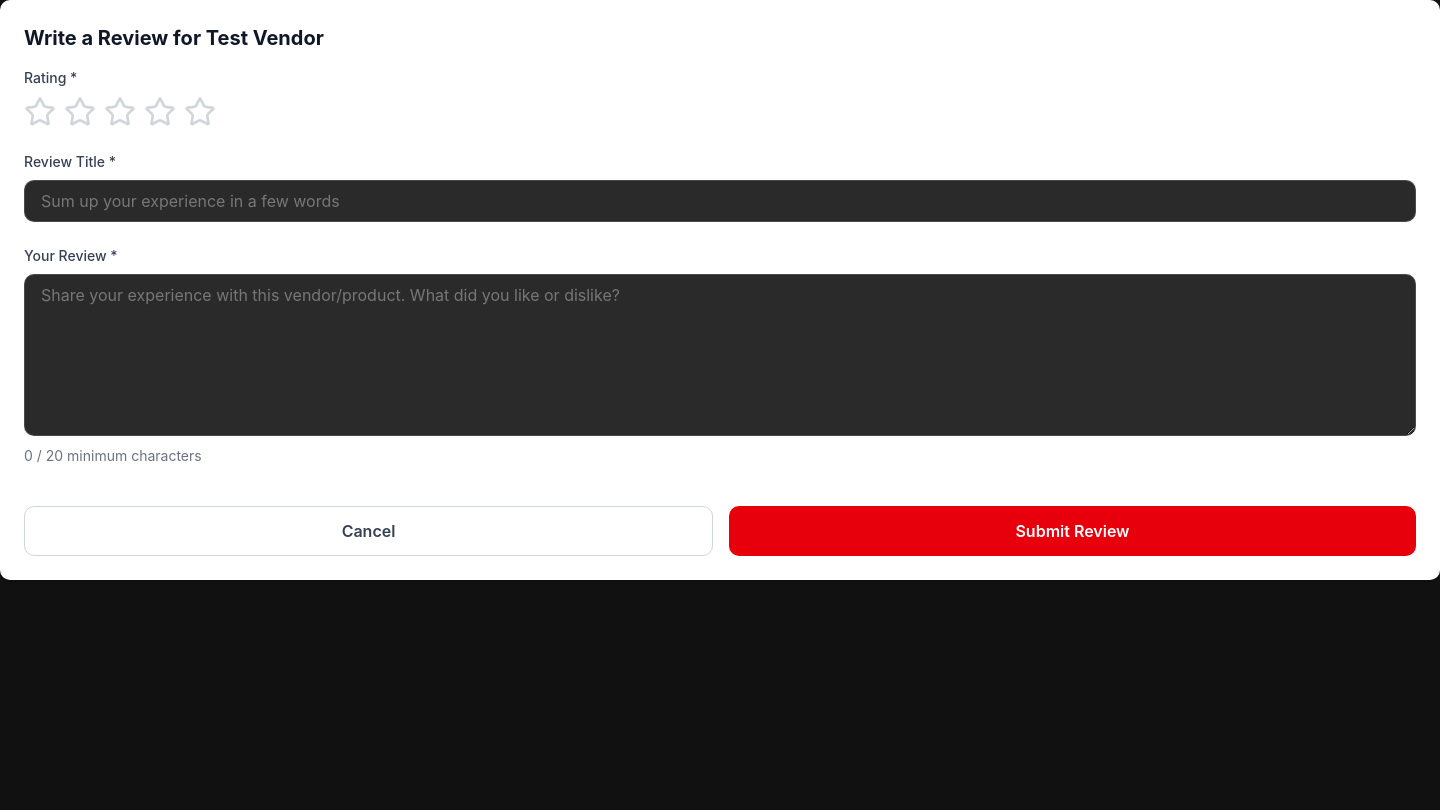
Scenario: ReviewForm › should show validation error for short comment
The width and height of the screenshot is (1440, 810).
Replace the text in the text box labelled "Your Review *" with "Short" at (720, 355), box [24,274,1416,436]
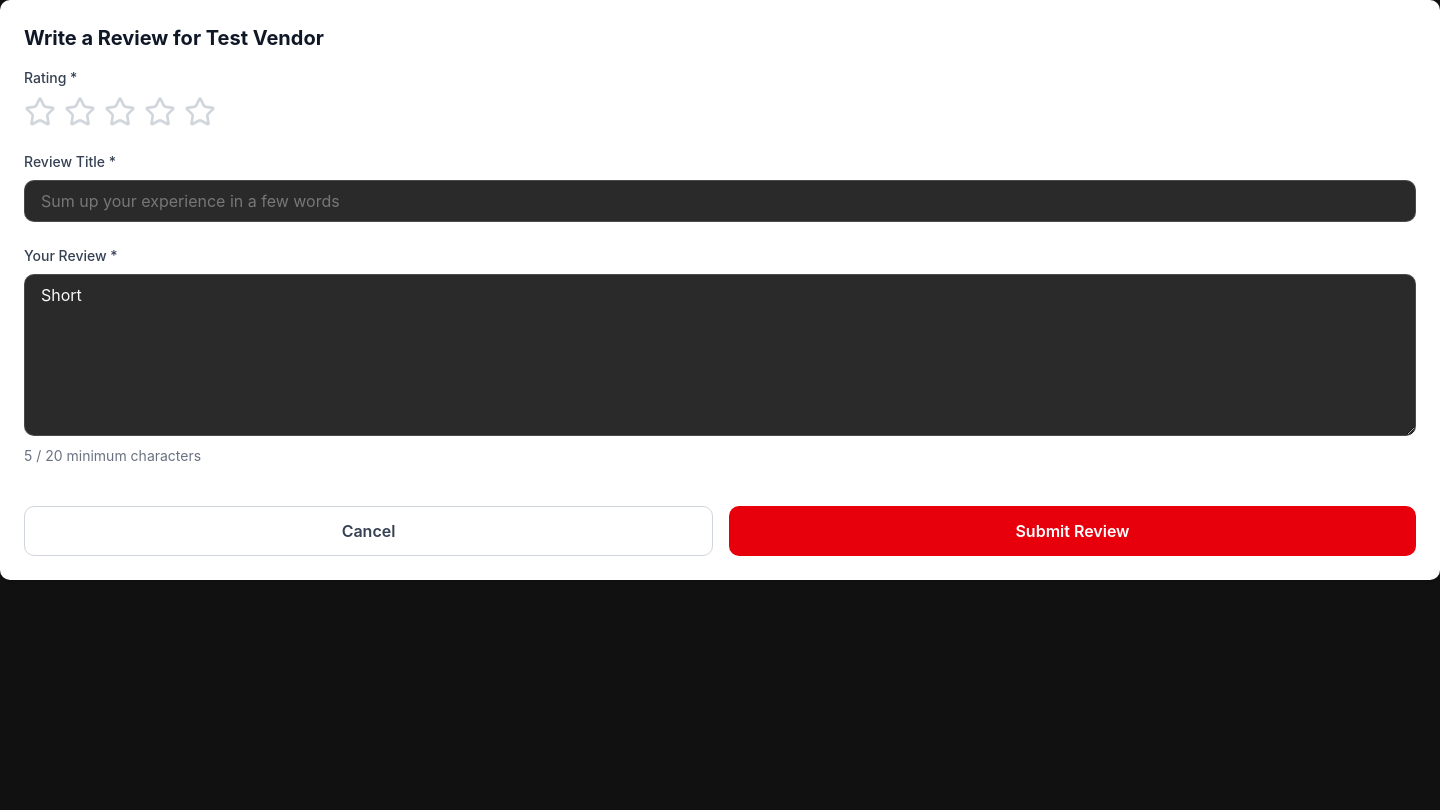
Click the button "Submit Review".
click(1072, 531)  # box [729,506,1416,556]
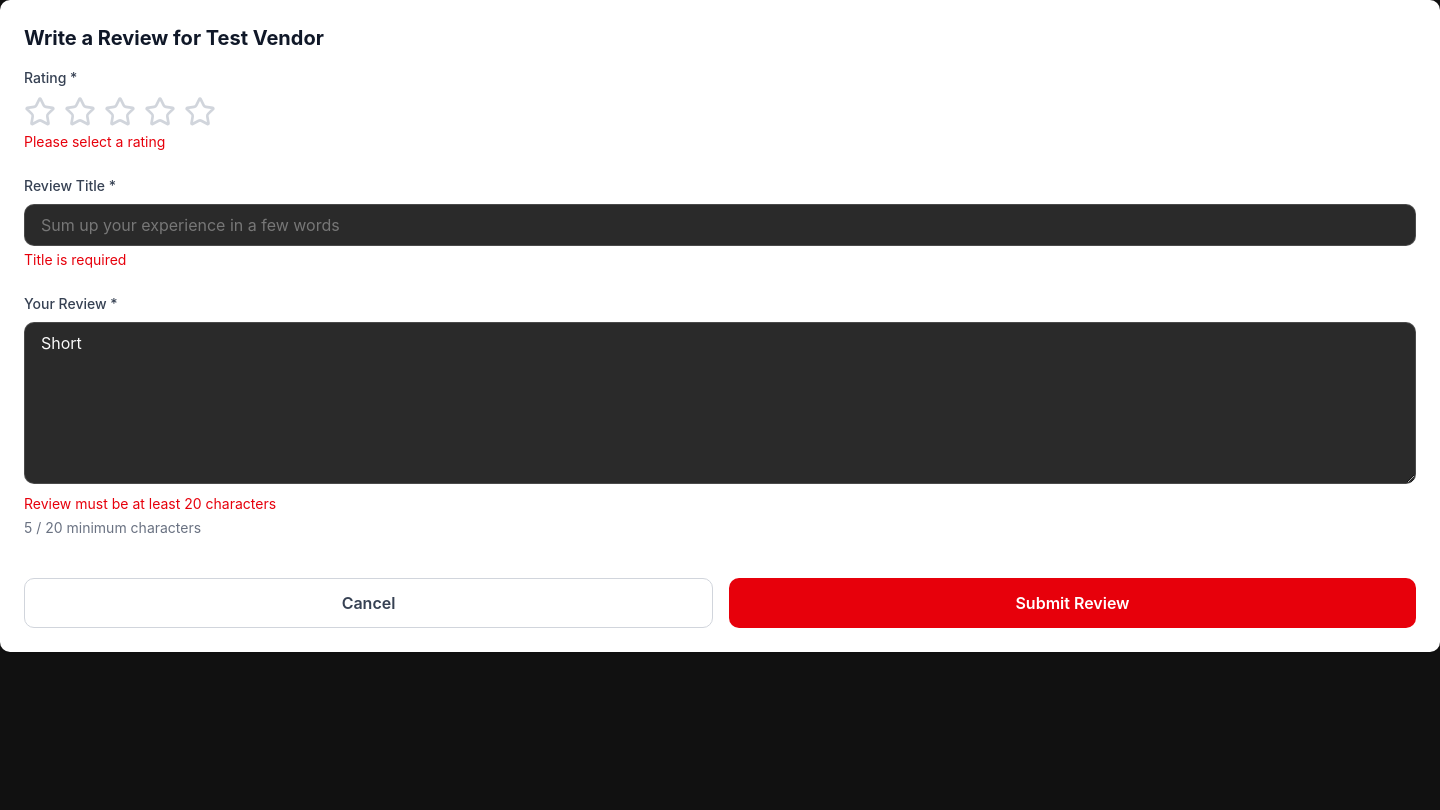
Expected: the text "Review must be at least 20 characters" is shown, [24,495,276,512]
